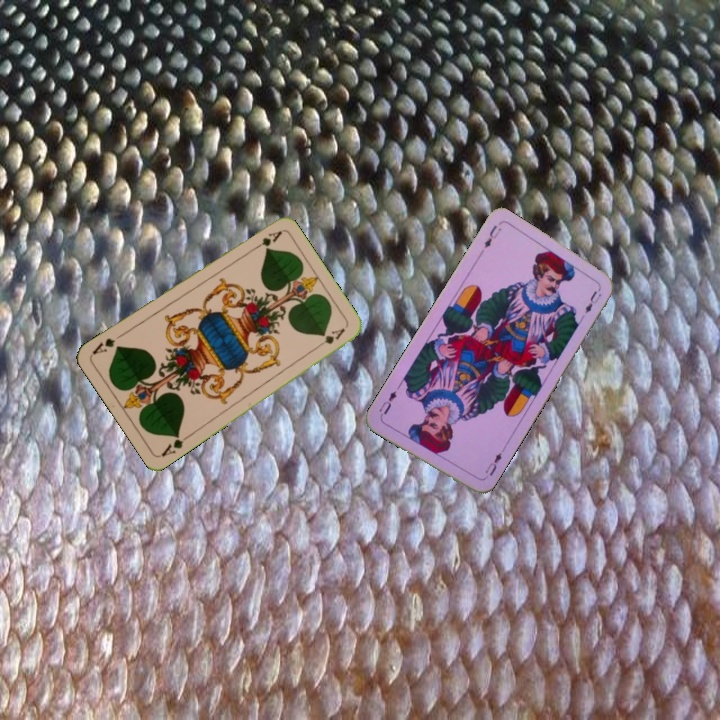EU: (481, 445, 506, 479), (480, 221, 504, 251)
GA: (157, 429, 193, 459), (247, 227, 284, 254)
